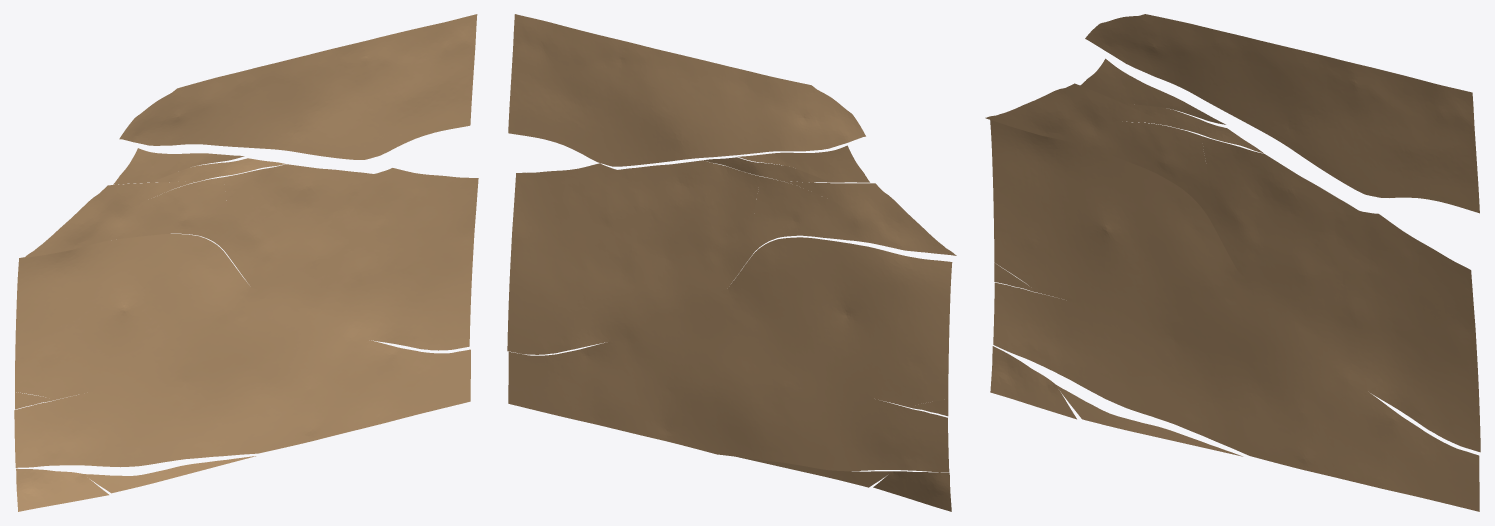
The model's file is 08_GlasgowSplintCoal_50m_GGERFS_Predrill.gltf.
3 renders of one model, left to right at view 1: azimuth 30°, elevation 25°; view 2: azimuth 150°, elevation 25°; view 3: azimuth 330°, elevation 25°, orthographic. The views are drawn at different scales.
Parts seen in each view (by area): view 1: 08_GLASGOWSPLINTCOAL_50M_GGERFS_PREDRILL; view 2: 08_GLASGOWSPLINTCOAL_50M_GGERFS_PREDRILL; view 3: 08_GLASGOWSPLINTCOAL_50M_GGERFS_PREDRILL.
Part boxes in pixels (<box>): 08_GLASGOWSPLINTCOAL_50M_GGERFS_PREDRILL: <box>14,14,478,511</box>; 08_GLASGOWSPLINTCOAL_50M_GGERFS_PREDRILL: <box>507,14,956,511</box>; 08_GLASGOWSPLINTCOAL_50M_GGERFS_PREDRILL: <box>985,14,1480,511</box>.
Size of the model in its own units: 5005 by 4150 by 230.
